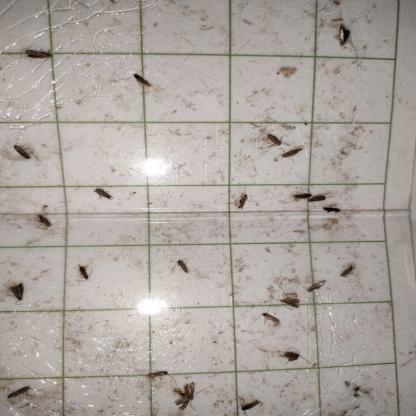prays_oleae: (170, 371, 201, 413), (4, 380, 38, 414), (21, 40, 57, 69), (34, 202, 57, 246), (276, 344, 306, 375), (257, 306, 284, 340), (276, 143, 312, 168), (174, 251, 199, 287), (337, 253, 359, 293), (84, 186, 118, 210), (10, 134, 37, 164), (9, 278, 30, 316), (276, 285, 305, 312), (333, 16, 354, 53), (262, 120, 284, 154), (285, 181, 311, 209), (74, 257, 95, 291), (233, 186, 252, 223), (145, 360, 171, 386), (304, 274, 333, 296), (129, 74, 154, 96), (237, 397, 267, 414), (306, 188, 326, 213), (323, 196, 343, 220)
